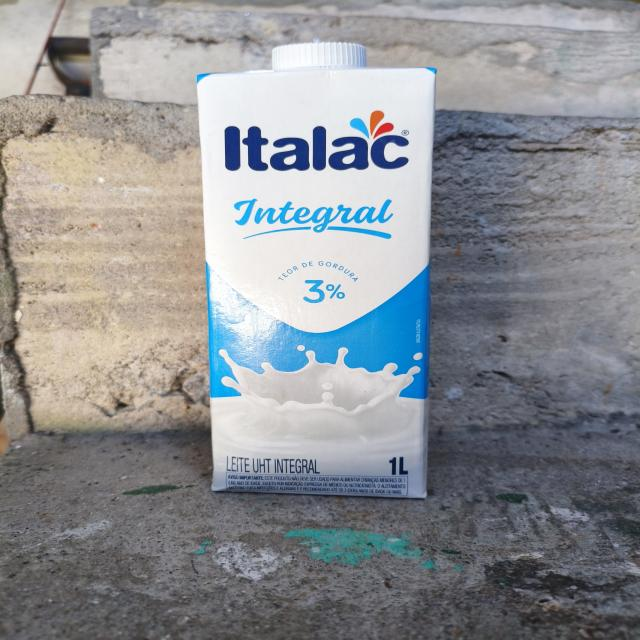Caixa de Leite: (192, 39, 438, 506)
